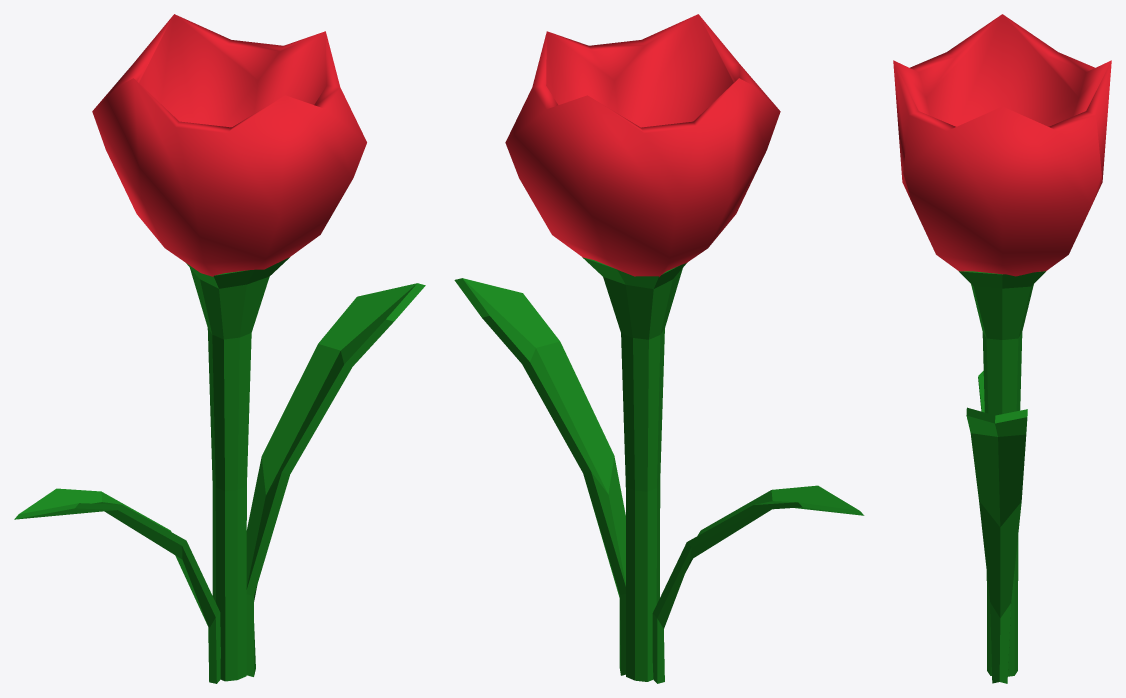
File: Tulp.fbx
3 views of the same model, side by side, from view 1: azimuth 30°, elevation 25°; view 2: azimuth 150°, elevation 25°; view 3: azimuth 270°, elevation 25° (orthographic).
Parts seen in each view (by area): view 1: Plane.003; view 2: Plane.003; view 3: Plane.003.
Part boxes in pixels (box(x1,y1,x2,y2)): Plane.003: box(14, 14, 425, 683); Plane.003: box(454, 14, 864, 683); Plane.003: box(893, 14, 1111, 683).
Bounding box in the file's own units: 245 × 355 × 114.
